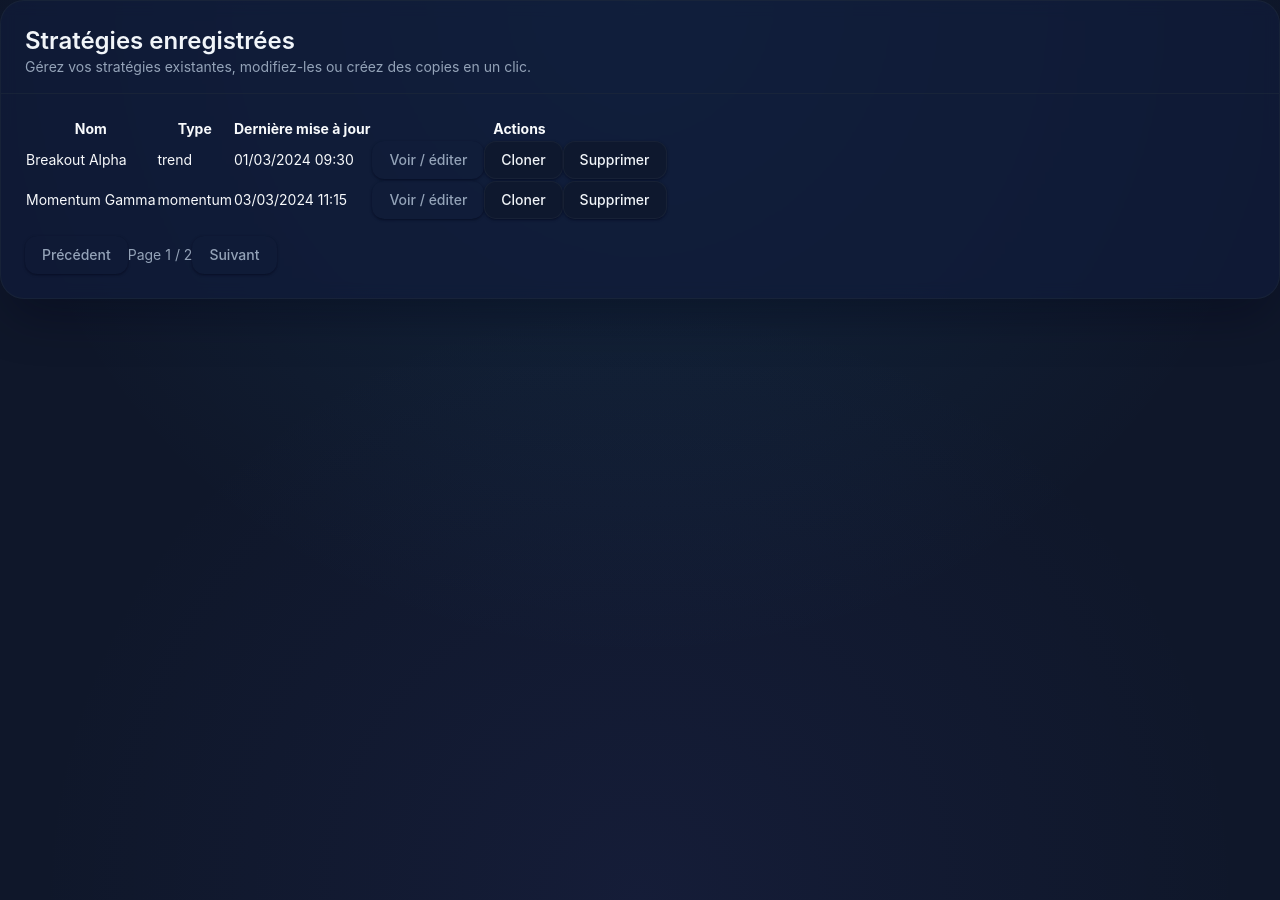
Test: StrategiesListView › removes and clones strategies via actions
This screenshot has width=1280, height=900.
Expected: the text "Breakout Alpha" is shown, [26,151,127,168]
Click the button "Supprimer" in the row of "Breakout Alpha" at (615, 160), box [563,141,666,179]
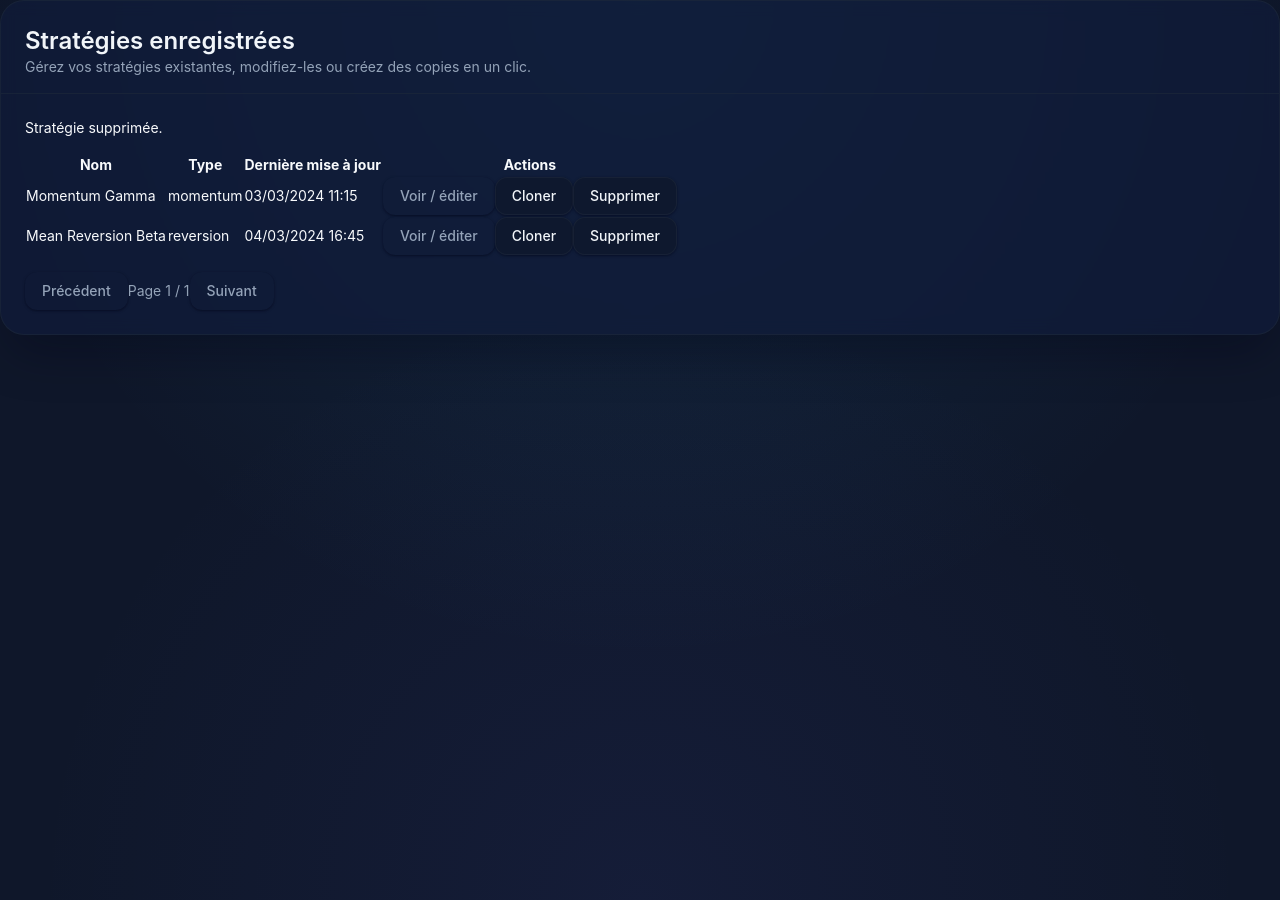
Expected: the text "Breakout Alpha" is gone
Expected: the text "Stratégie supprimée." is shown, [25,119,163,136]
Click the button "Cloner" in the row of "Momentum Gamma" at (534, 196), box [495,177,573,215]
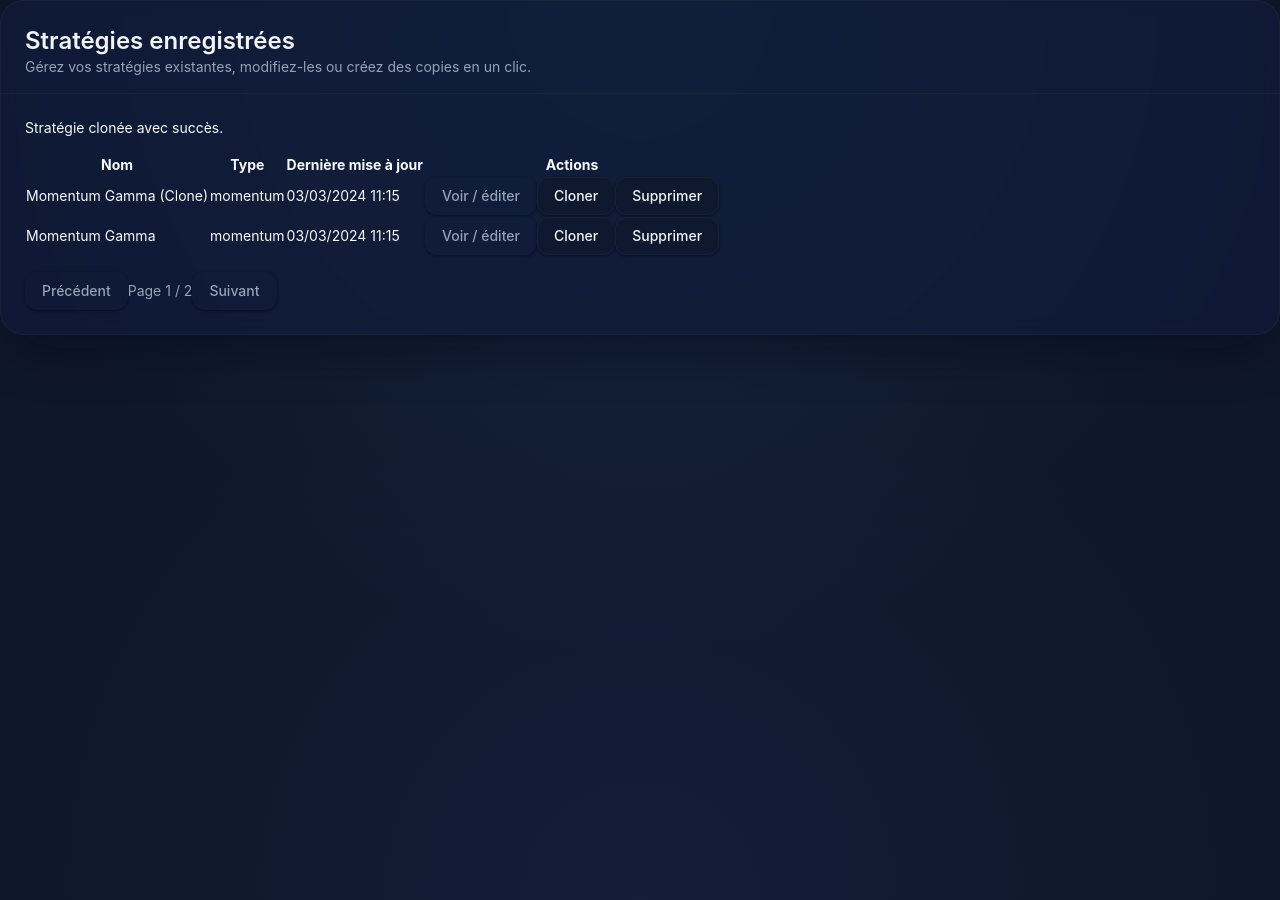
Expected: the text "Momentum Gamma (Clone)" is shown, [26,186,208,206]
Expected: the text "Stratégie clonée avec succès." is shown, [25,119,223,136]
